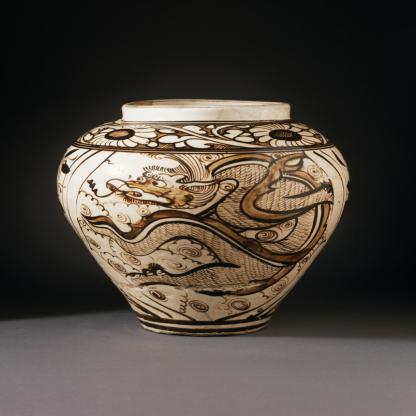vase: (57, 98, 351, 336)
